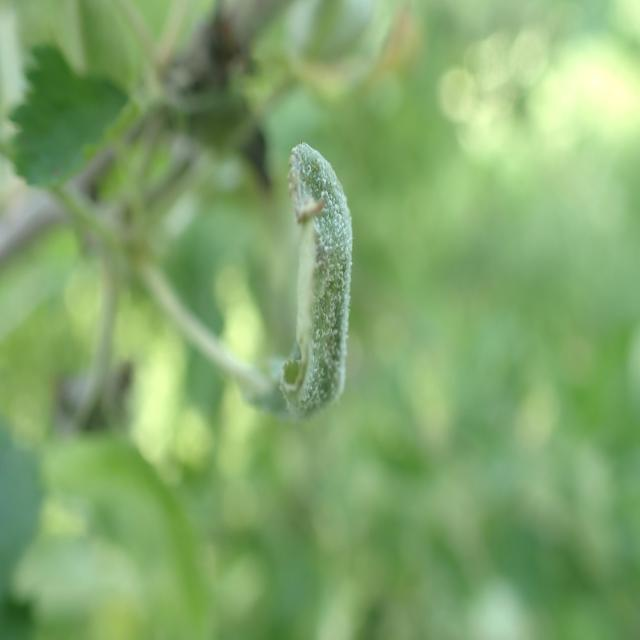Powdery_mildew: (213, 132, 361, 442)
